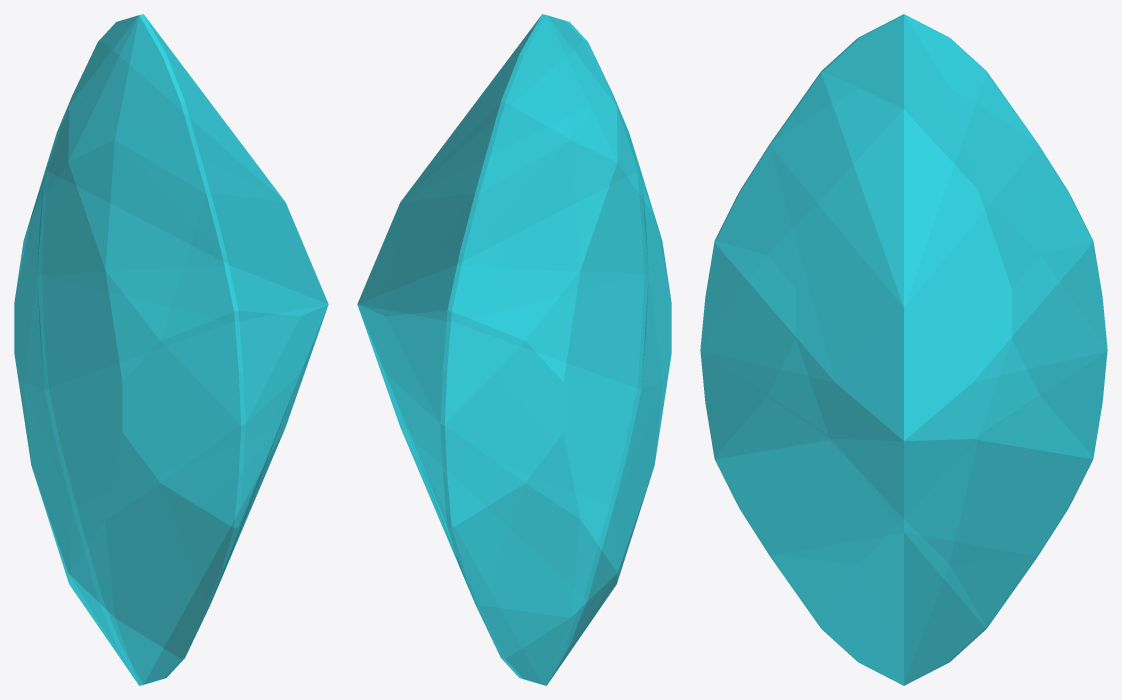
File: marquise aquamarine.glb
3 views of the same model, side by side, from view 1: azimuth 30°, elevation 25°; view 2: azimuth 150°, elevation 25°; view 3: azimuth 270°, elevation 25° (orthographic).
Parts seen in each view (by area): view 1: Marquise; view 2: Marquise; view 3: Marquise.
Boxes of the visible parts, bbox=[...] form: Marquise: bbox=[14, 14, 328, 685]; Marquise: bbox=[357, 14, 671, 685]; Marquise: bbox=[700, 14, 1107, 685].
Size of the model in its own units: 0.8446 by 2.08 by 1.15.
